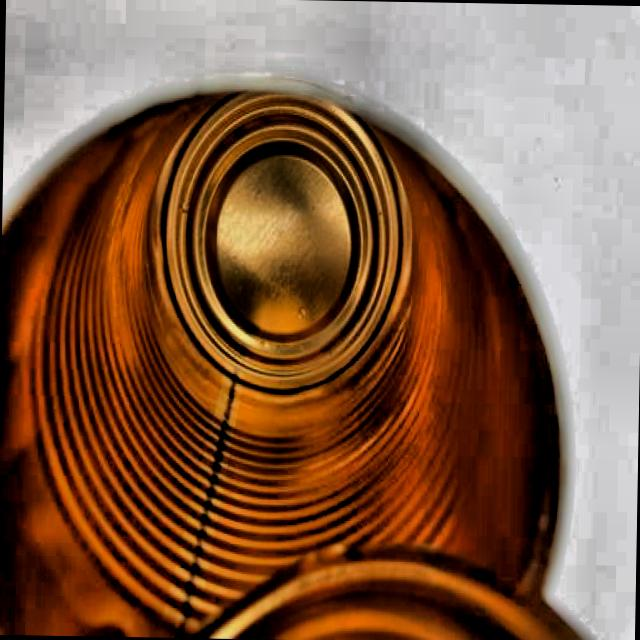metal: (9, 78, 558, 634)
